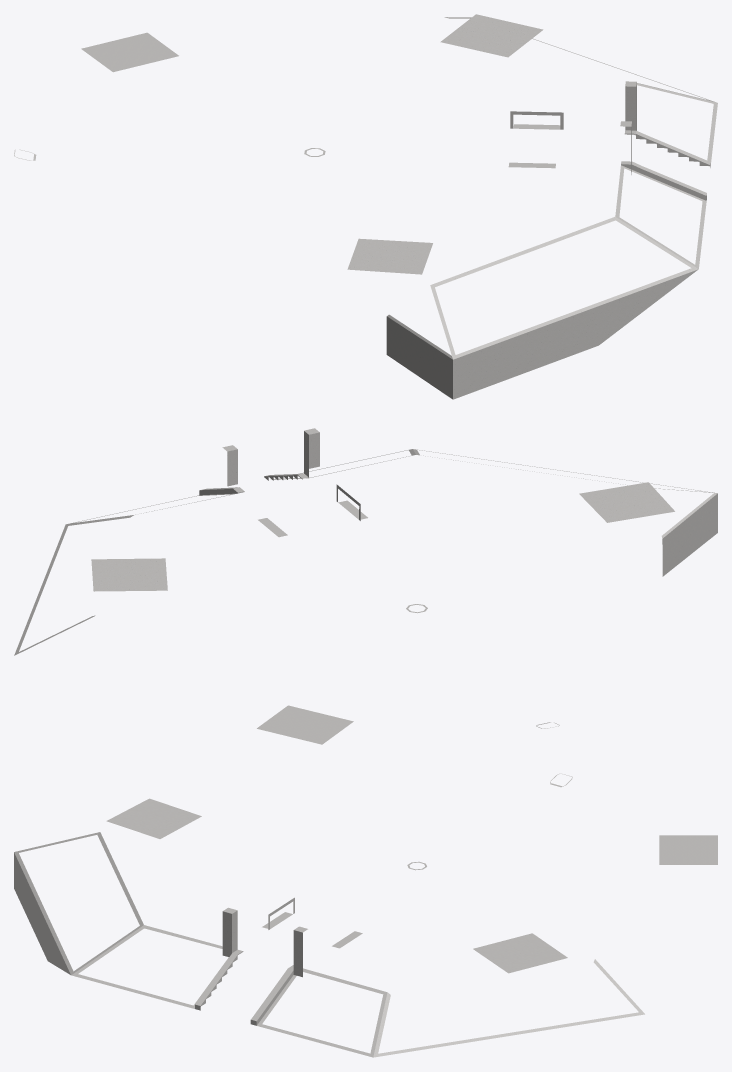
The model's file is kd_stage_1364a3_13_1_bounded.glb.
3 renders of one model, top to bottom at view 1: azimuth 30°, elevation 25°; view 2: azimuth 150°, elevation 25°; view 3: azimuth 270°, elevation 25°, orthographic. The views are drawn at different scales.
Visible parts, largest first — view 1: kd_stage_1364a3_13_1_bounded; view 2: kd_stage_1364a3_13_1_bounded; view 3: kd_stage_1364a3_13_1_bounded.
Part boxes in pixels (x1,y1,x2,y2): kd_stage_1364a3_13_1_bounded: [14, 14, 717, 399]; kd_stage_1364a3_13_1_bounded: [14, 428, 717, 744]; kd_stage_1364a3_13_1_bounded: [14, 773, 717, 1057].
Size of the model in its own units: 44.06 by 8.31 by 48.97.
1 material, 1 textured.
